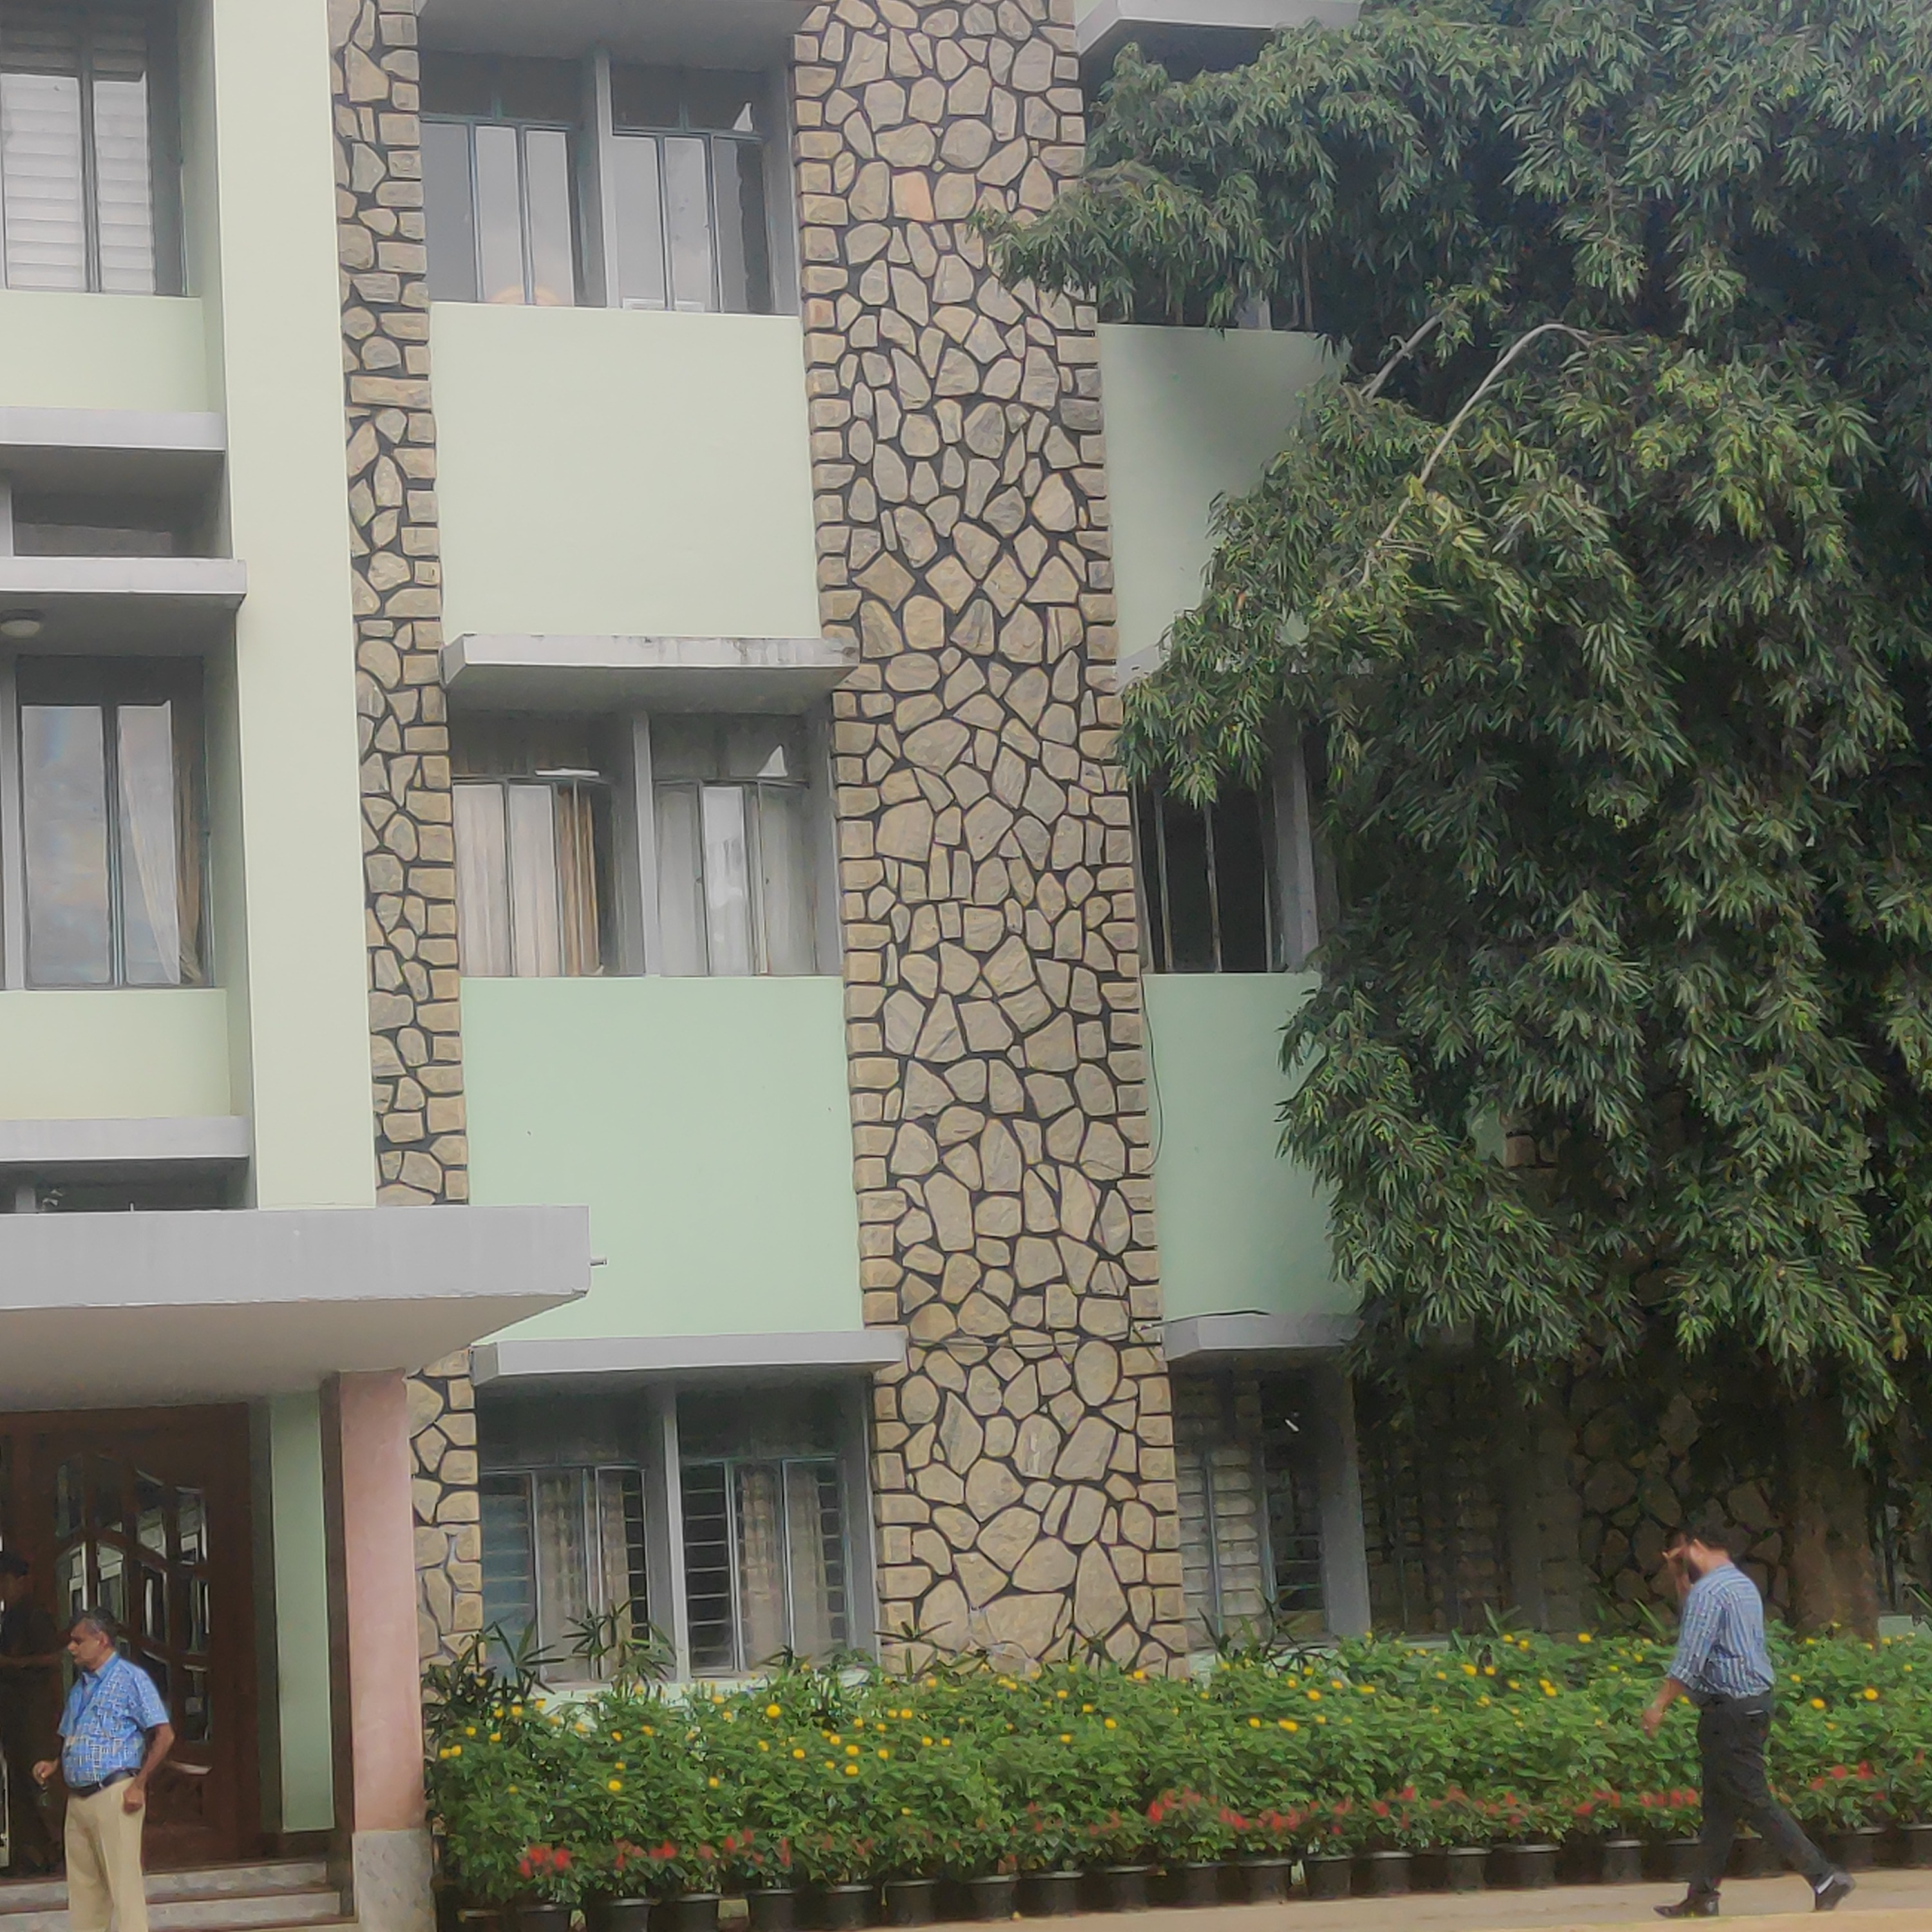Block 1: (0, 4, 1881, 1686)
